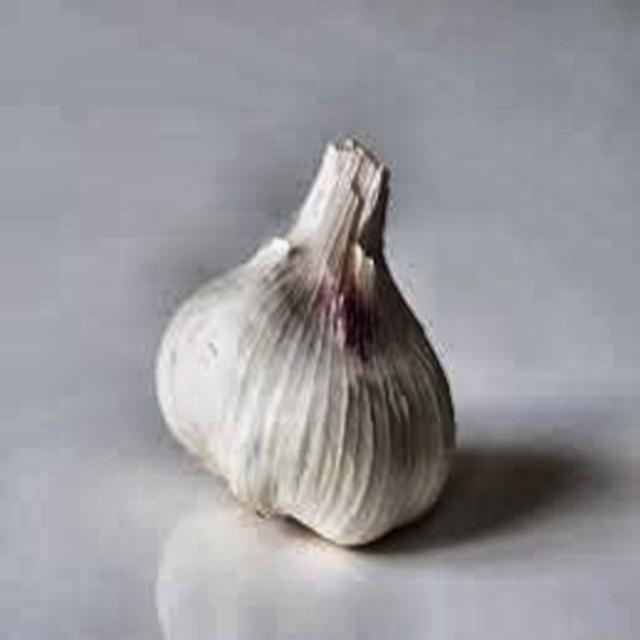garlic: (155, 135, 455, 544)
